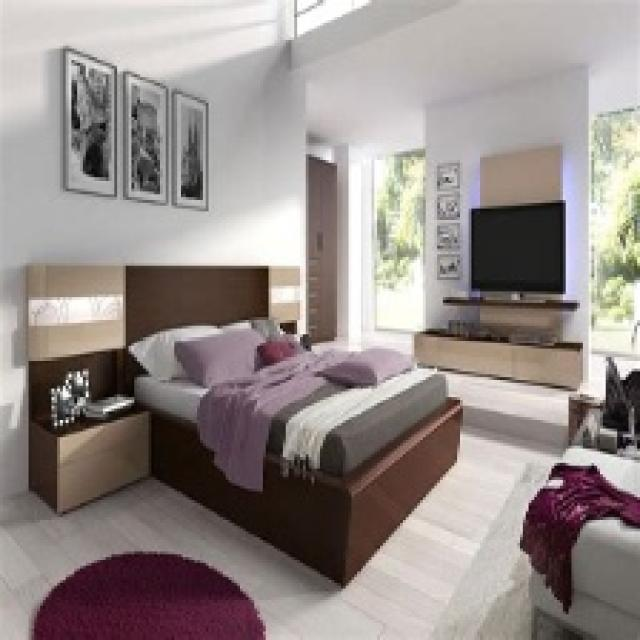Bed: (123, 263, 463, 586)
